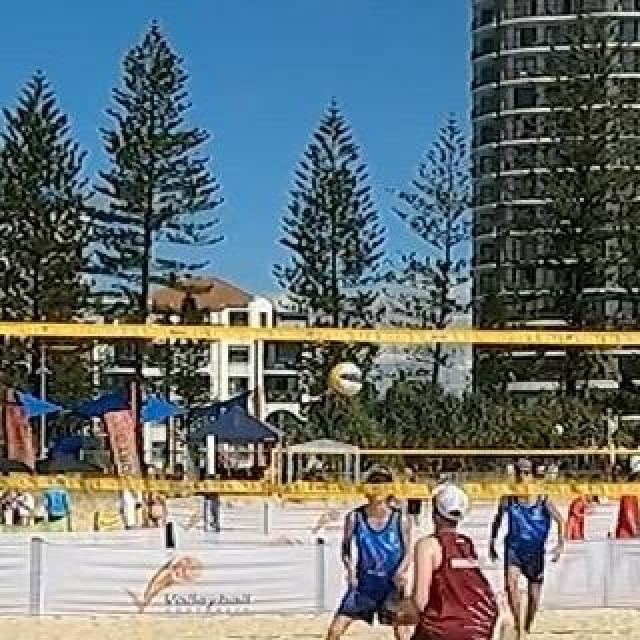volleyball: (329, 361, 363, 395)
